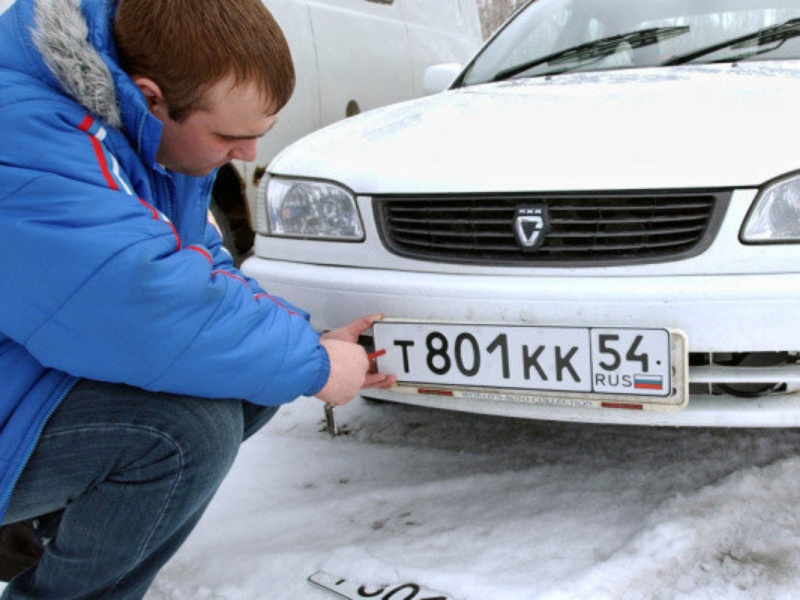car: (240, 1, 800, 428)
person: (1, 1, 399, 600)
plate: (375, 321, 670, 393)
